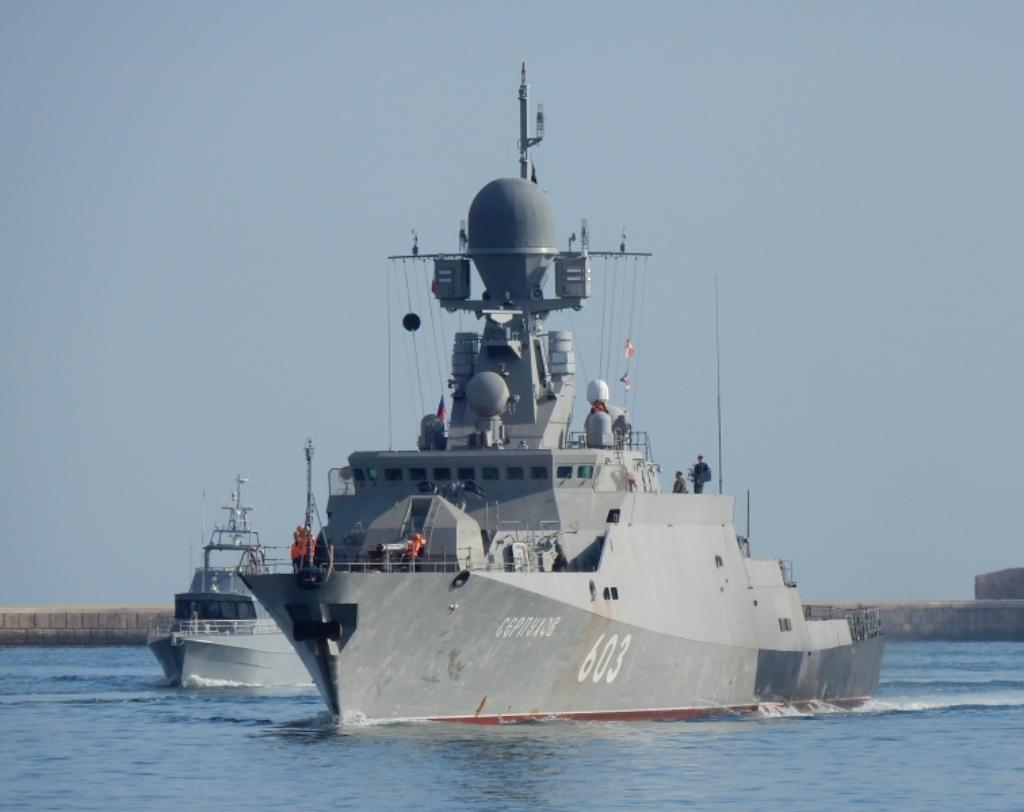Warship: (228, 49, 894, 739)
